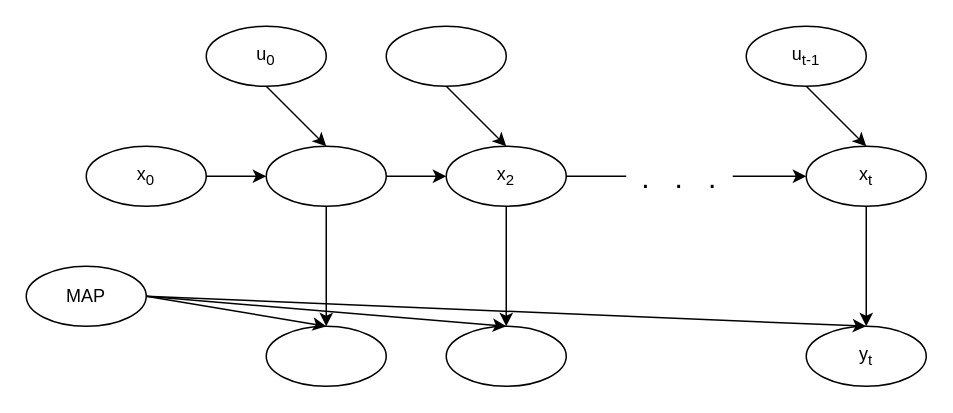
The diagram is 953 pixels wide and 413 high, and some of its shapes have lost their labels. Here are the shapes that lost their labels. From the top down, the centre of each, then its label:
At (x=445, y=55): "u 1".
At (x=325, y=175): "x 1".
At (x=325, y=355): "y 1".
At (x=505, y=355): "y 2".
